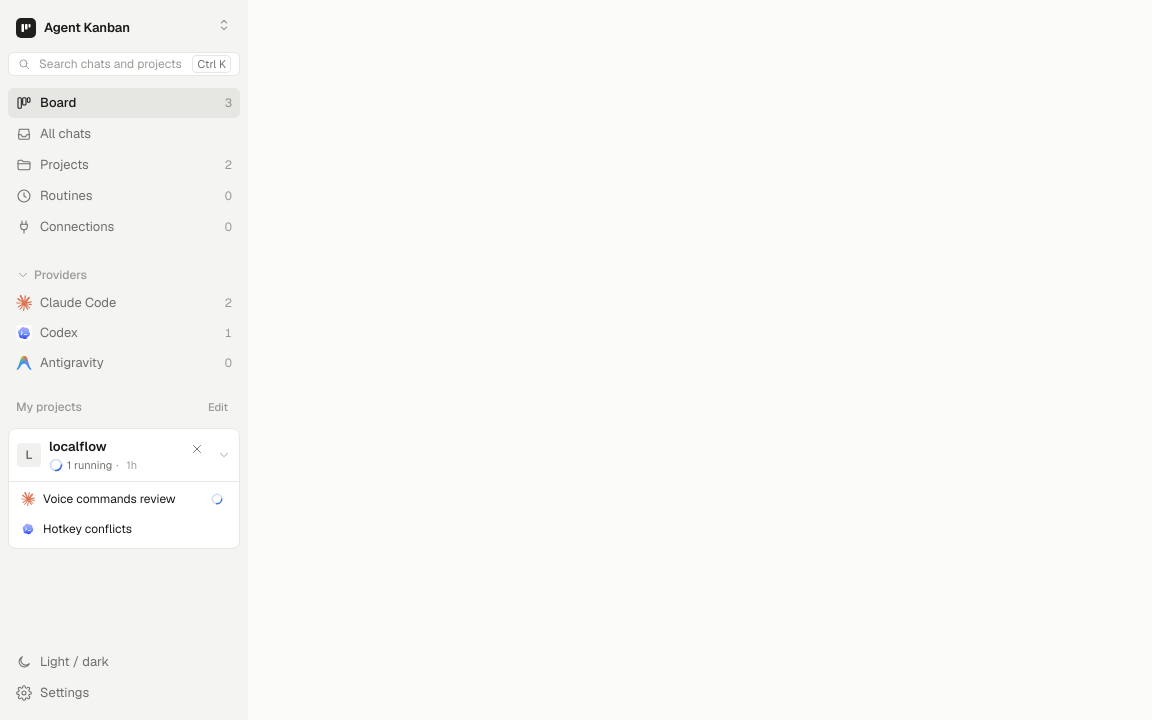
Test: Global search › highlighting a project shows that project's chats on the right
The width and height of the screenshot is (1152, 720).
Press k
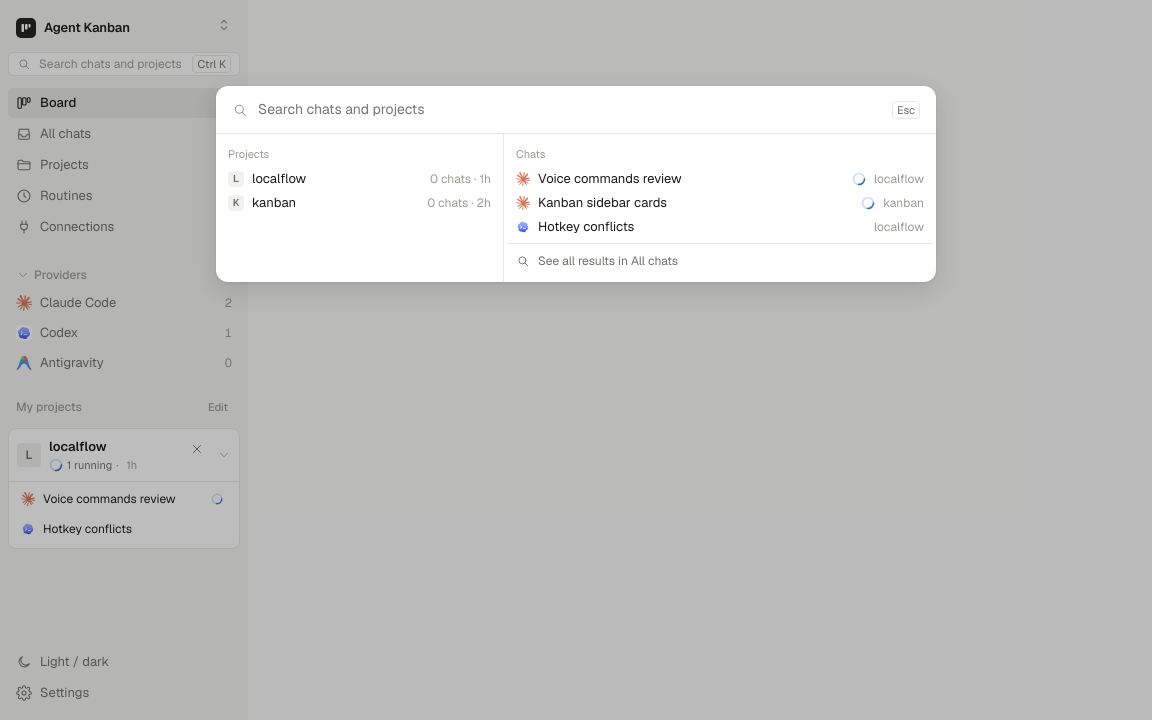
Type "localflow" into the dropdown named "Search chats and projects".
click(570, 110); type("localflow")  # box [256, 98, 884, 121]
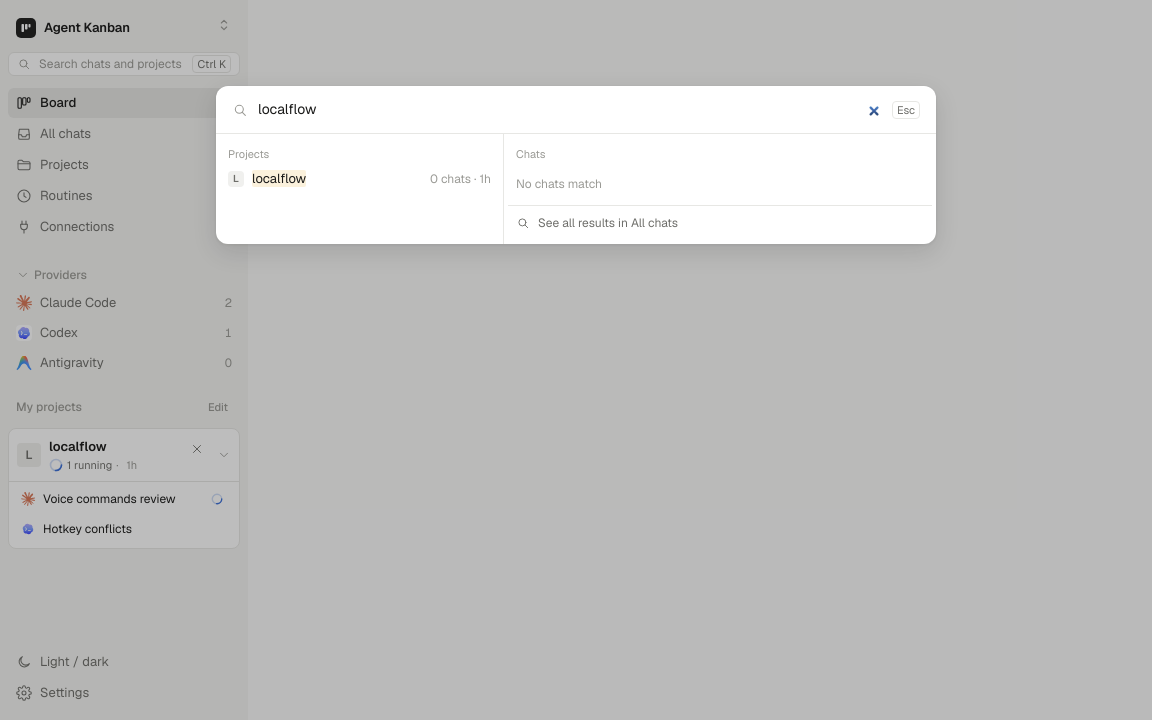
Press ArrowDown in the dropdown named "Search chats and projects", box [256, 98, 884, 121]
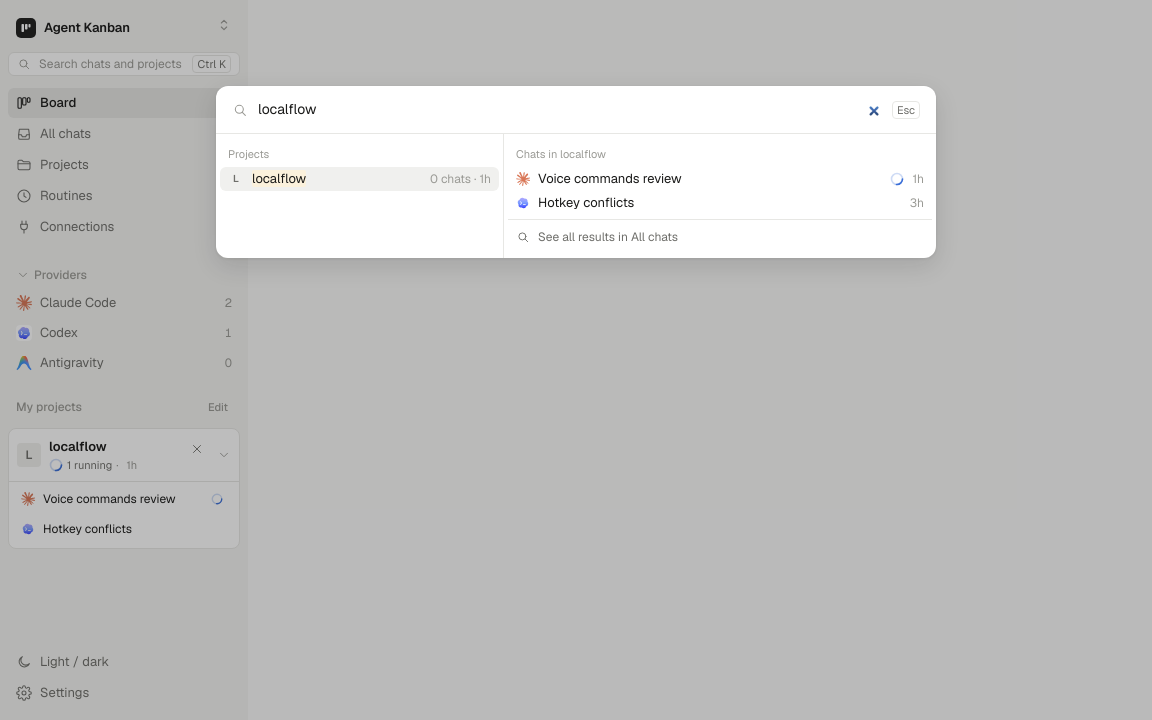
Expected: the text "Chats in localflow" is shown, [516, 147, 606, 161]
